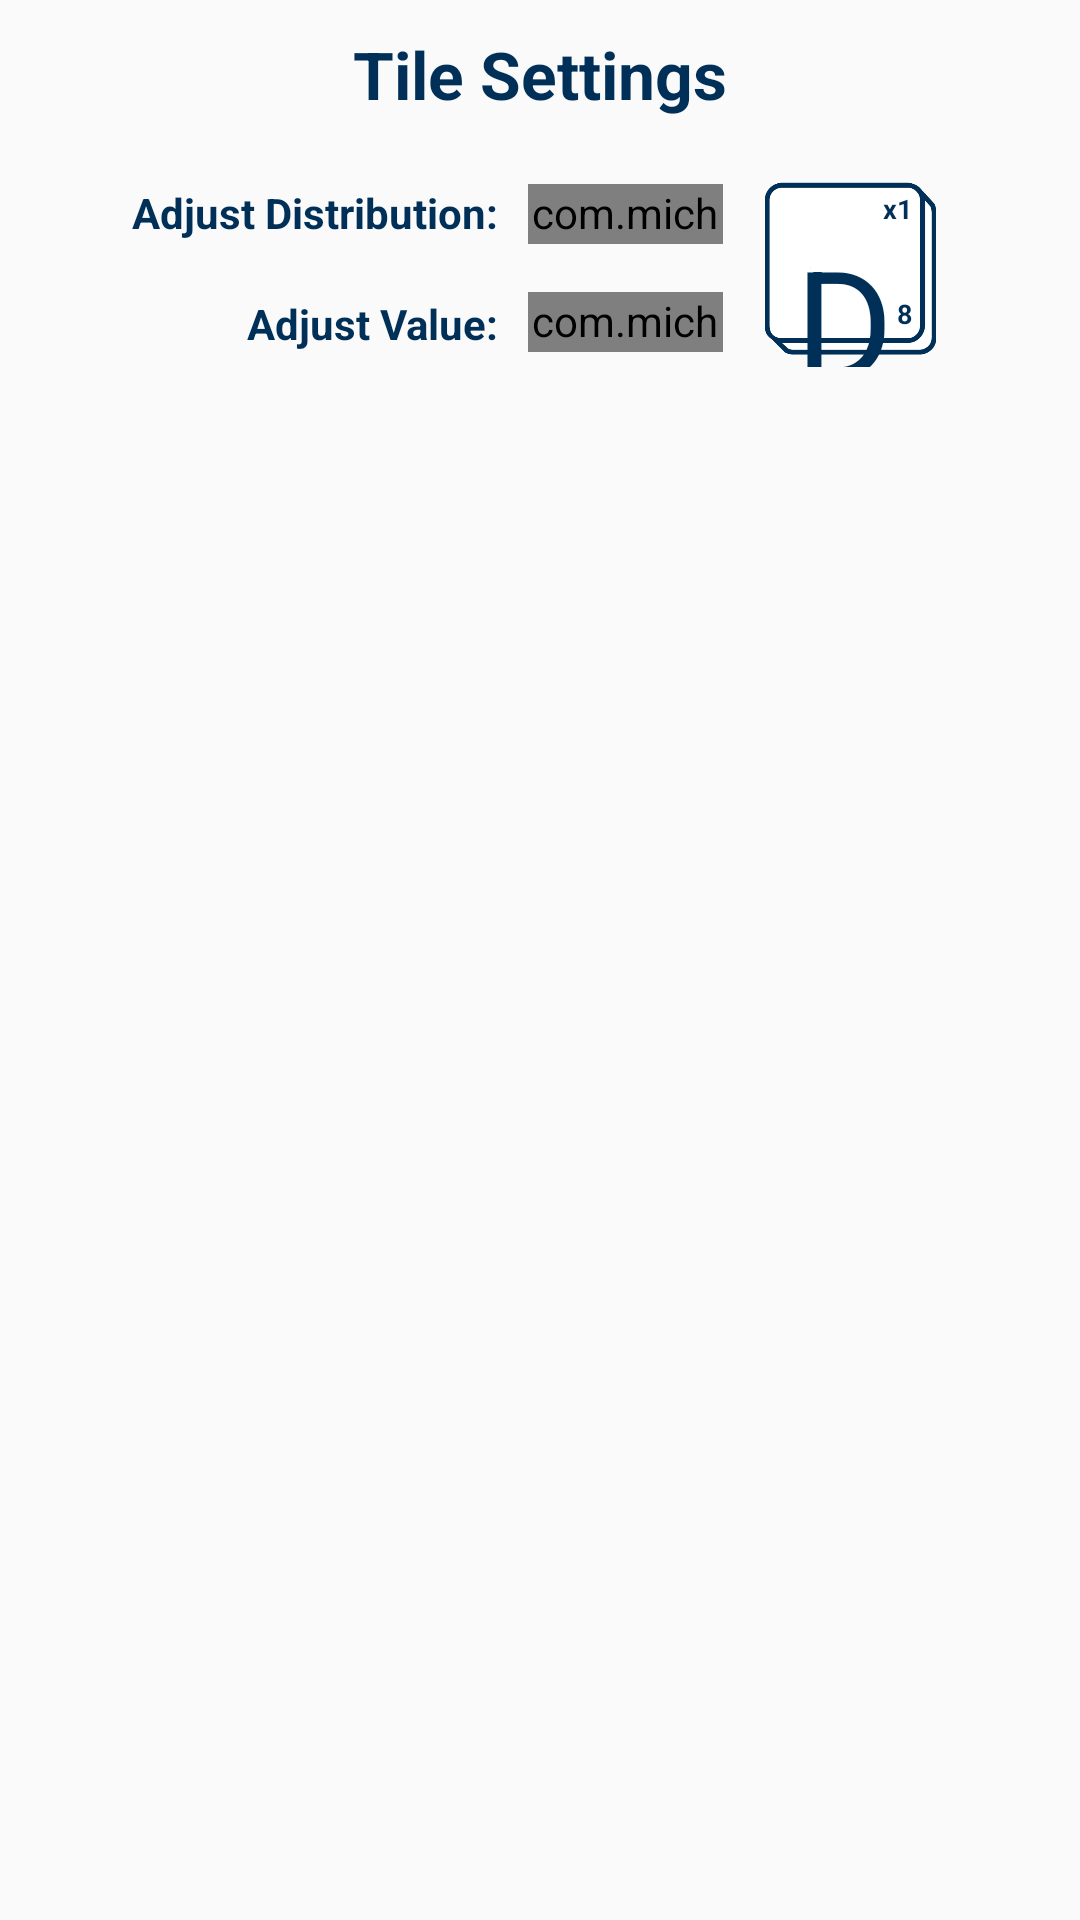

Screen size 1080 x 1920. Icon name, then its center in pixels as (x,y):
tile border: (850,274)
